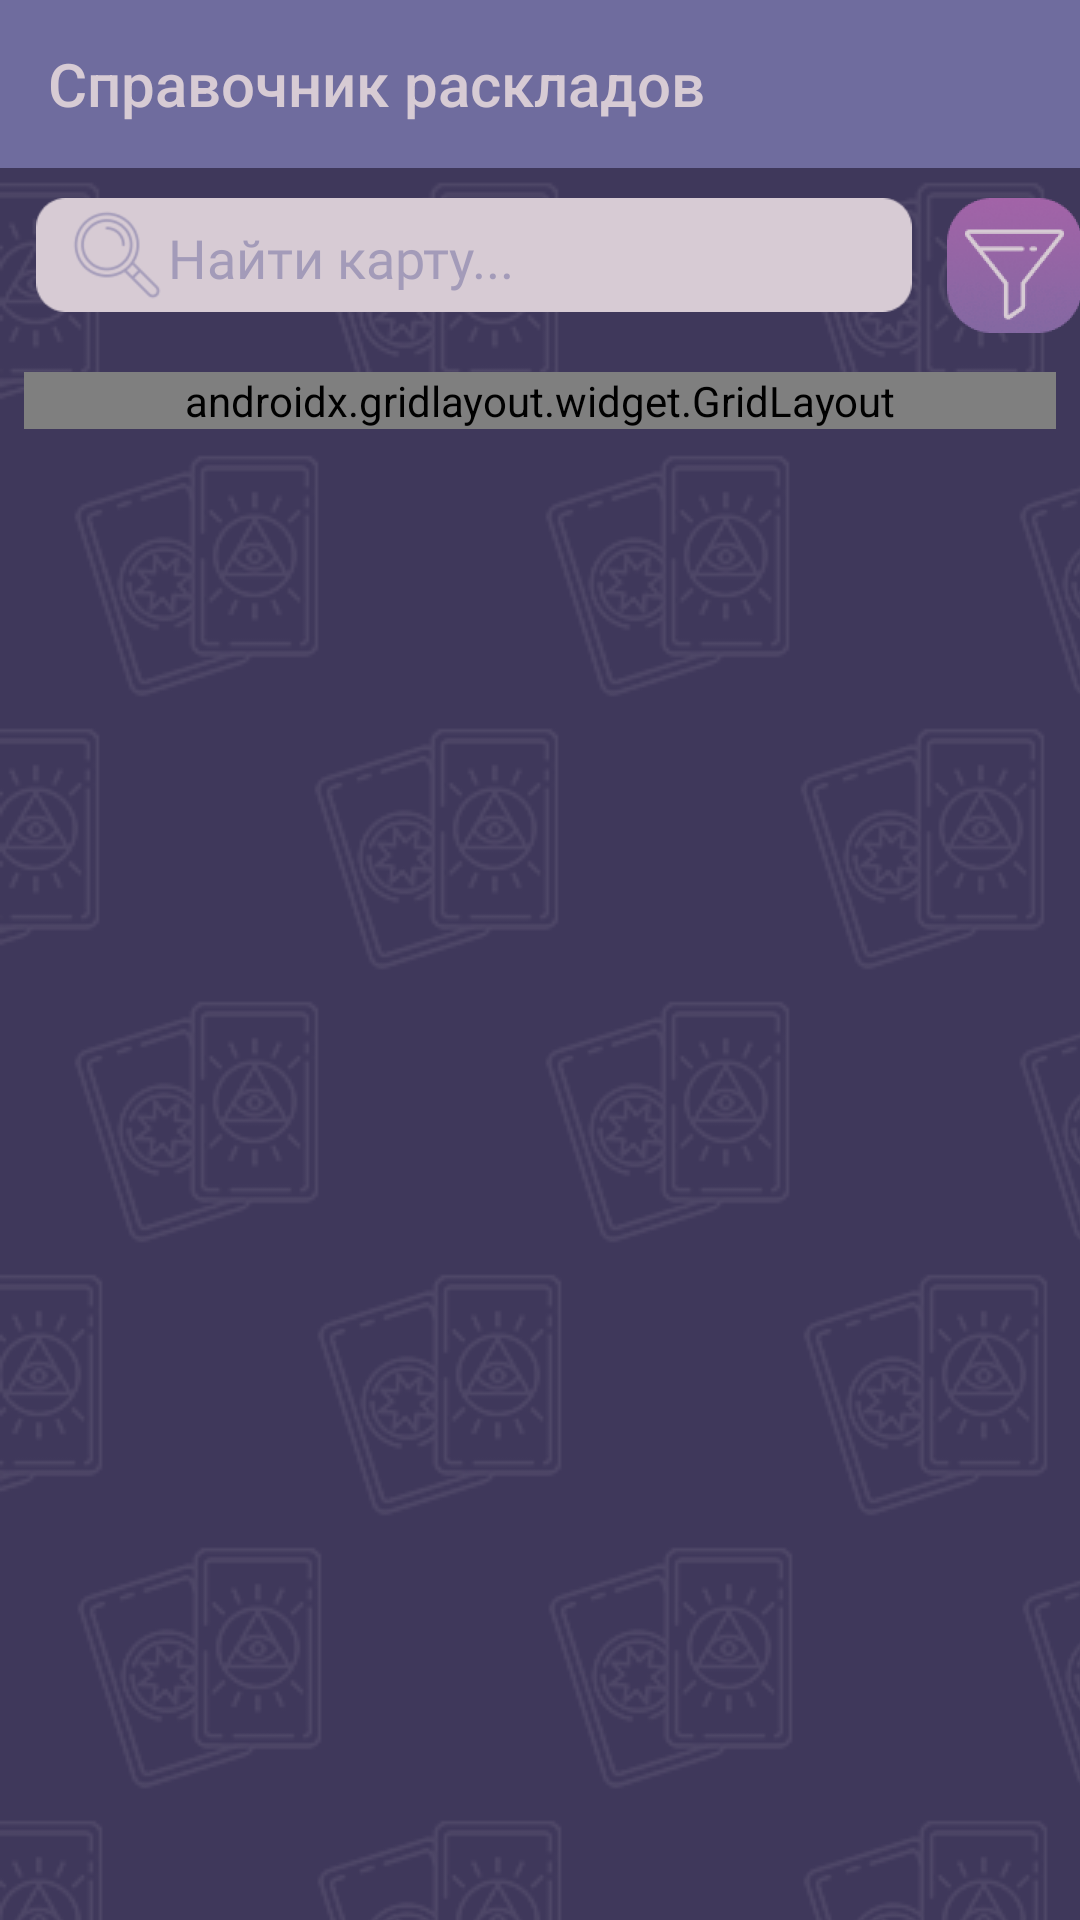

Named icons in this screenshot (1080*1920) and their centers, [x,y]:
filter: [1013,265]
